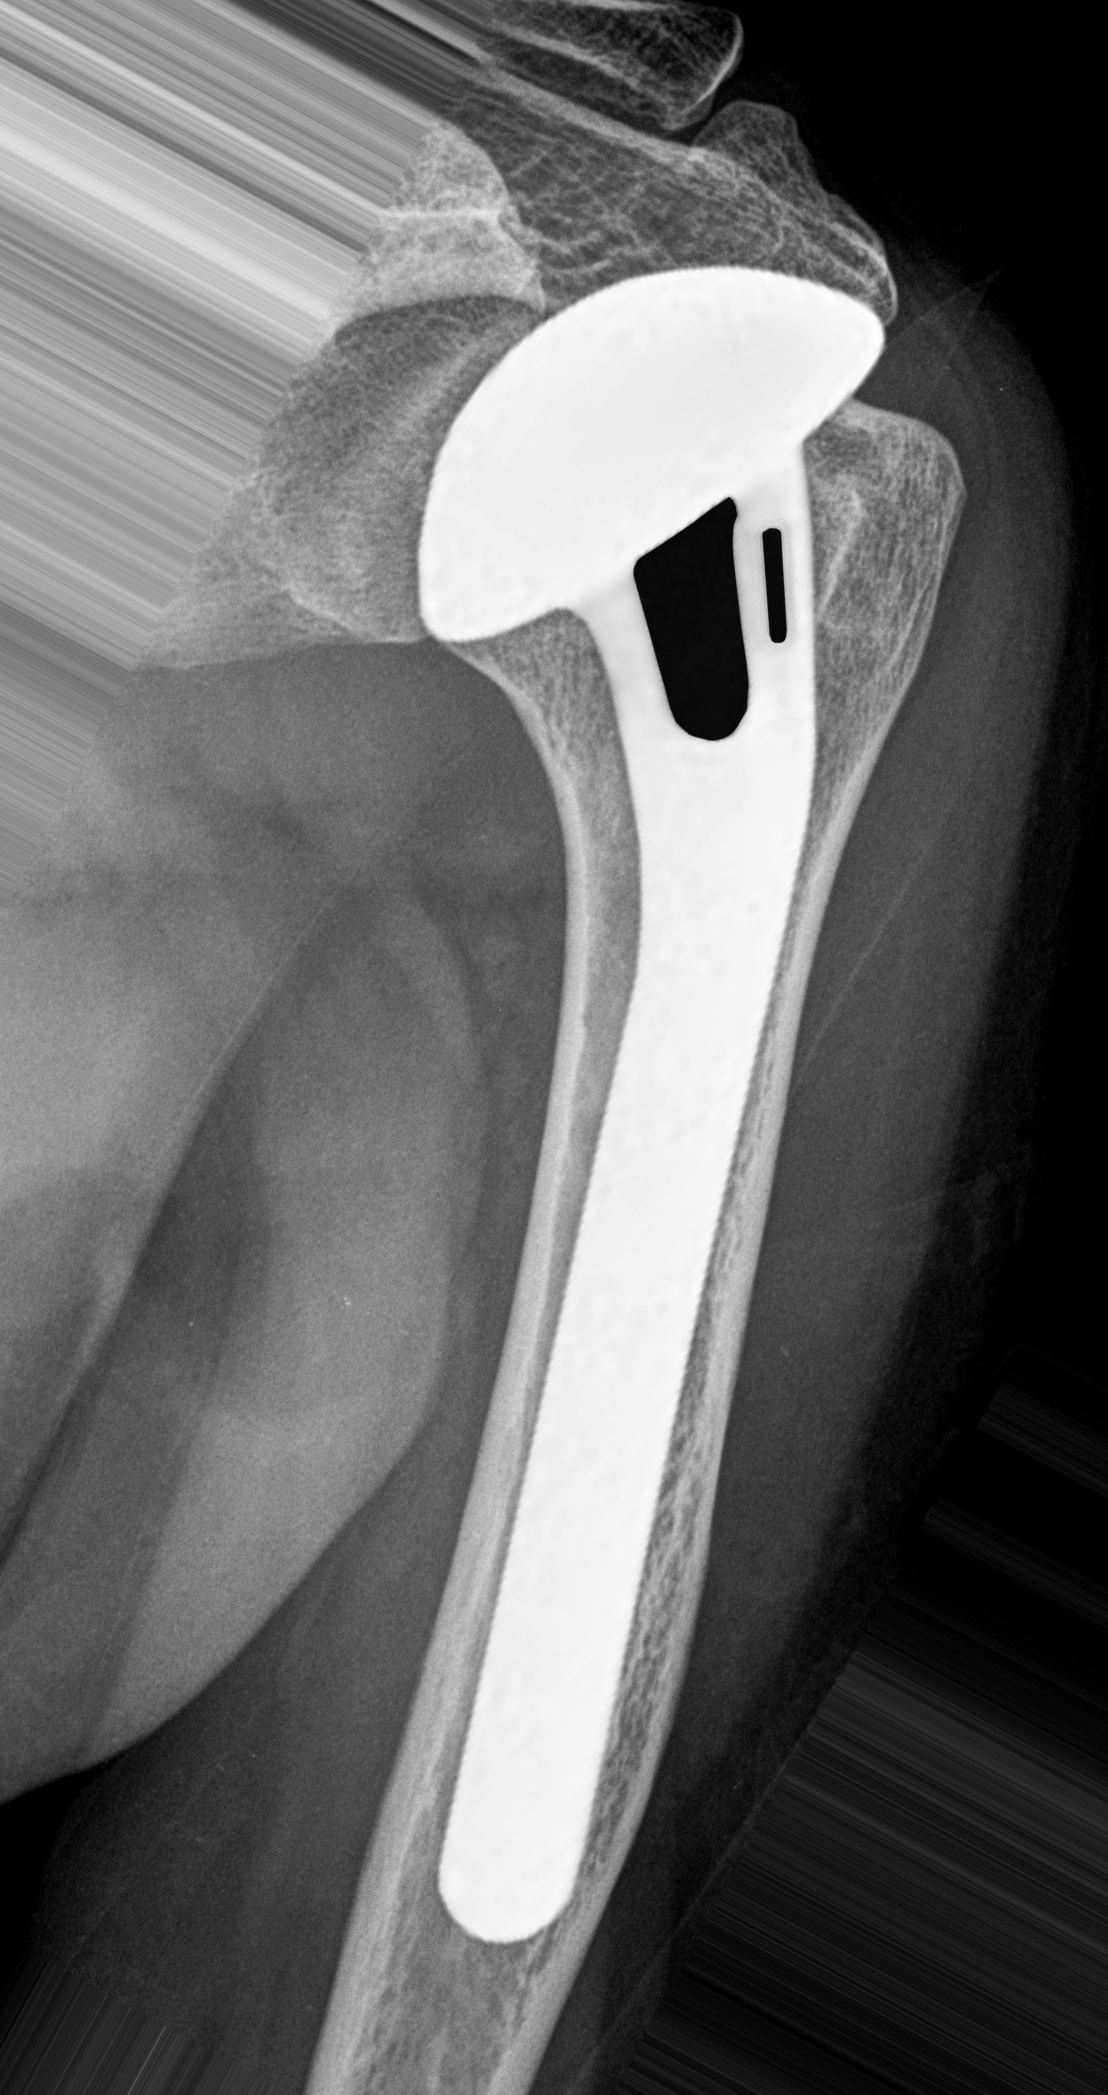Shoulder - AequalisFracture - Tornier: (370, 260, 900, 761)
